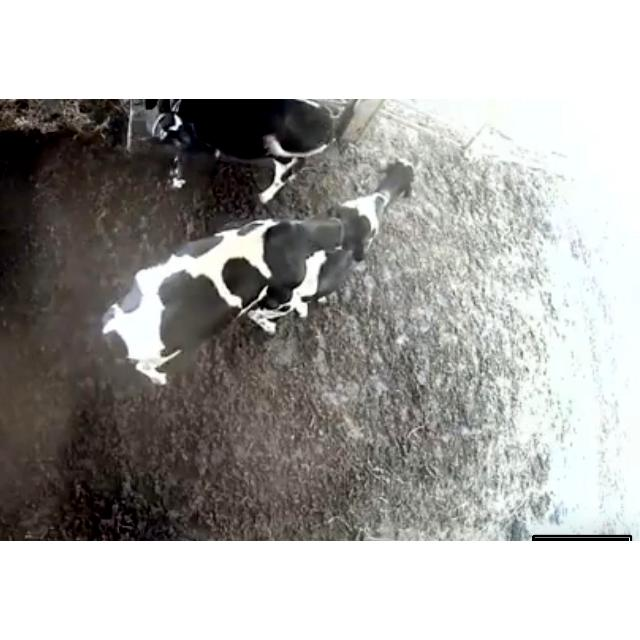ride: (80, 192, 390, 390)
